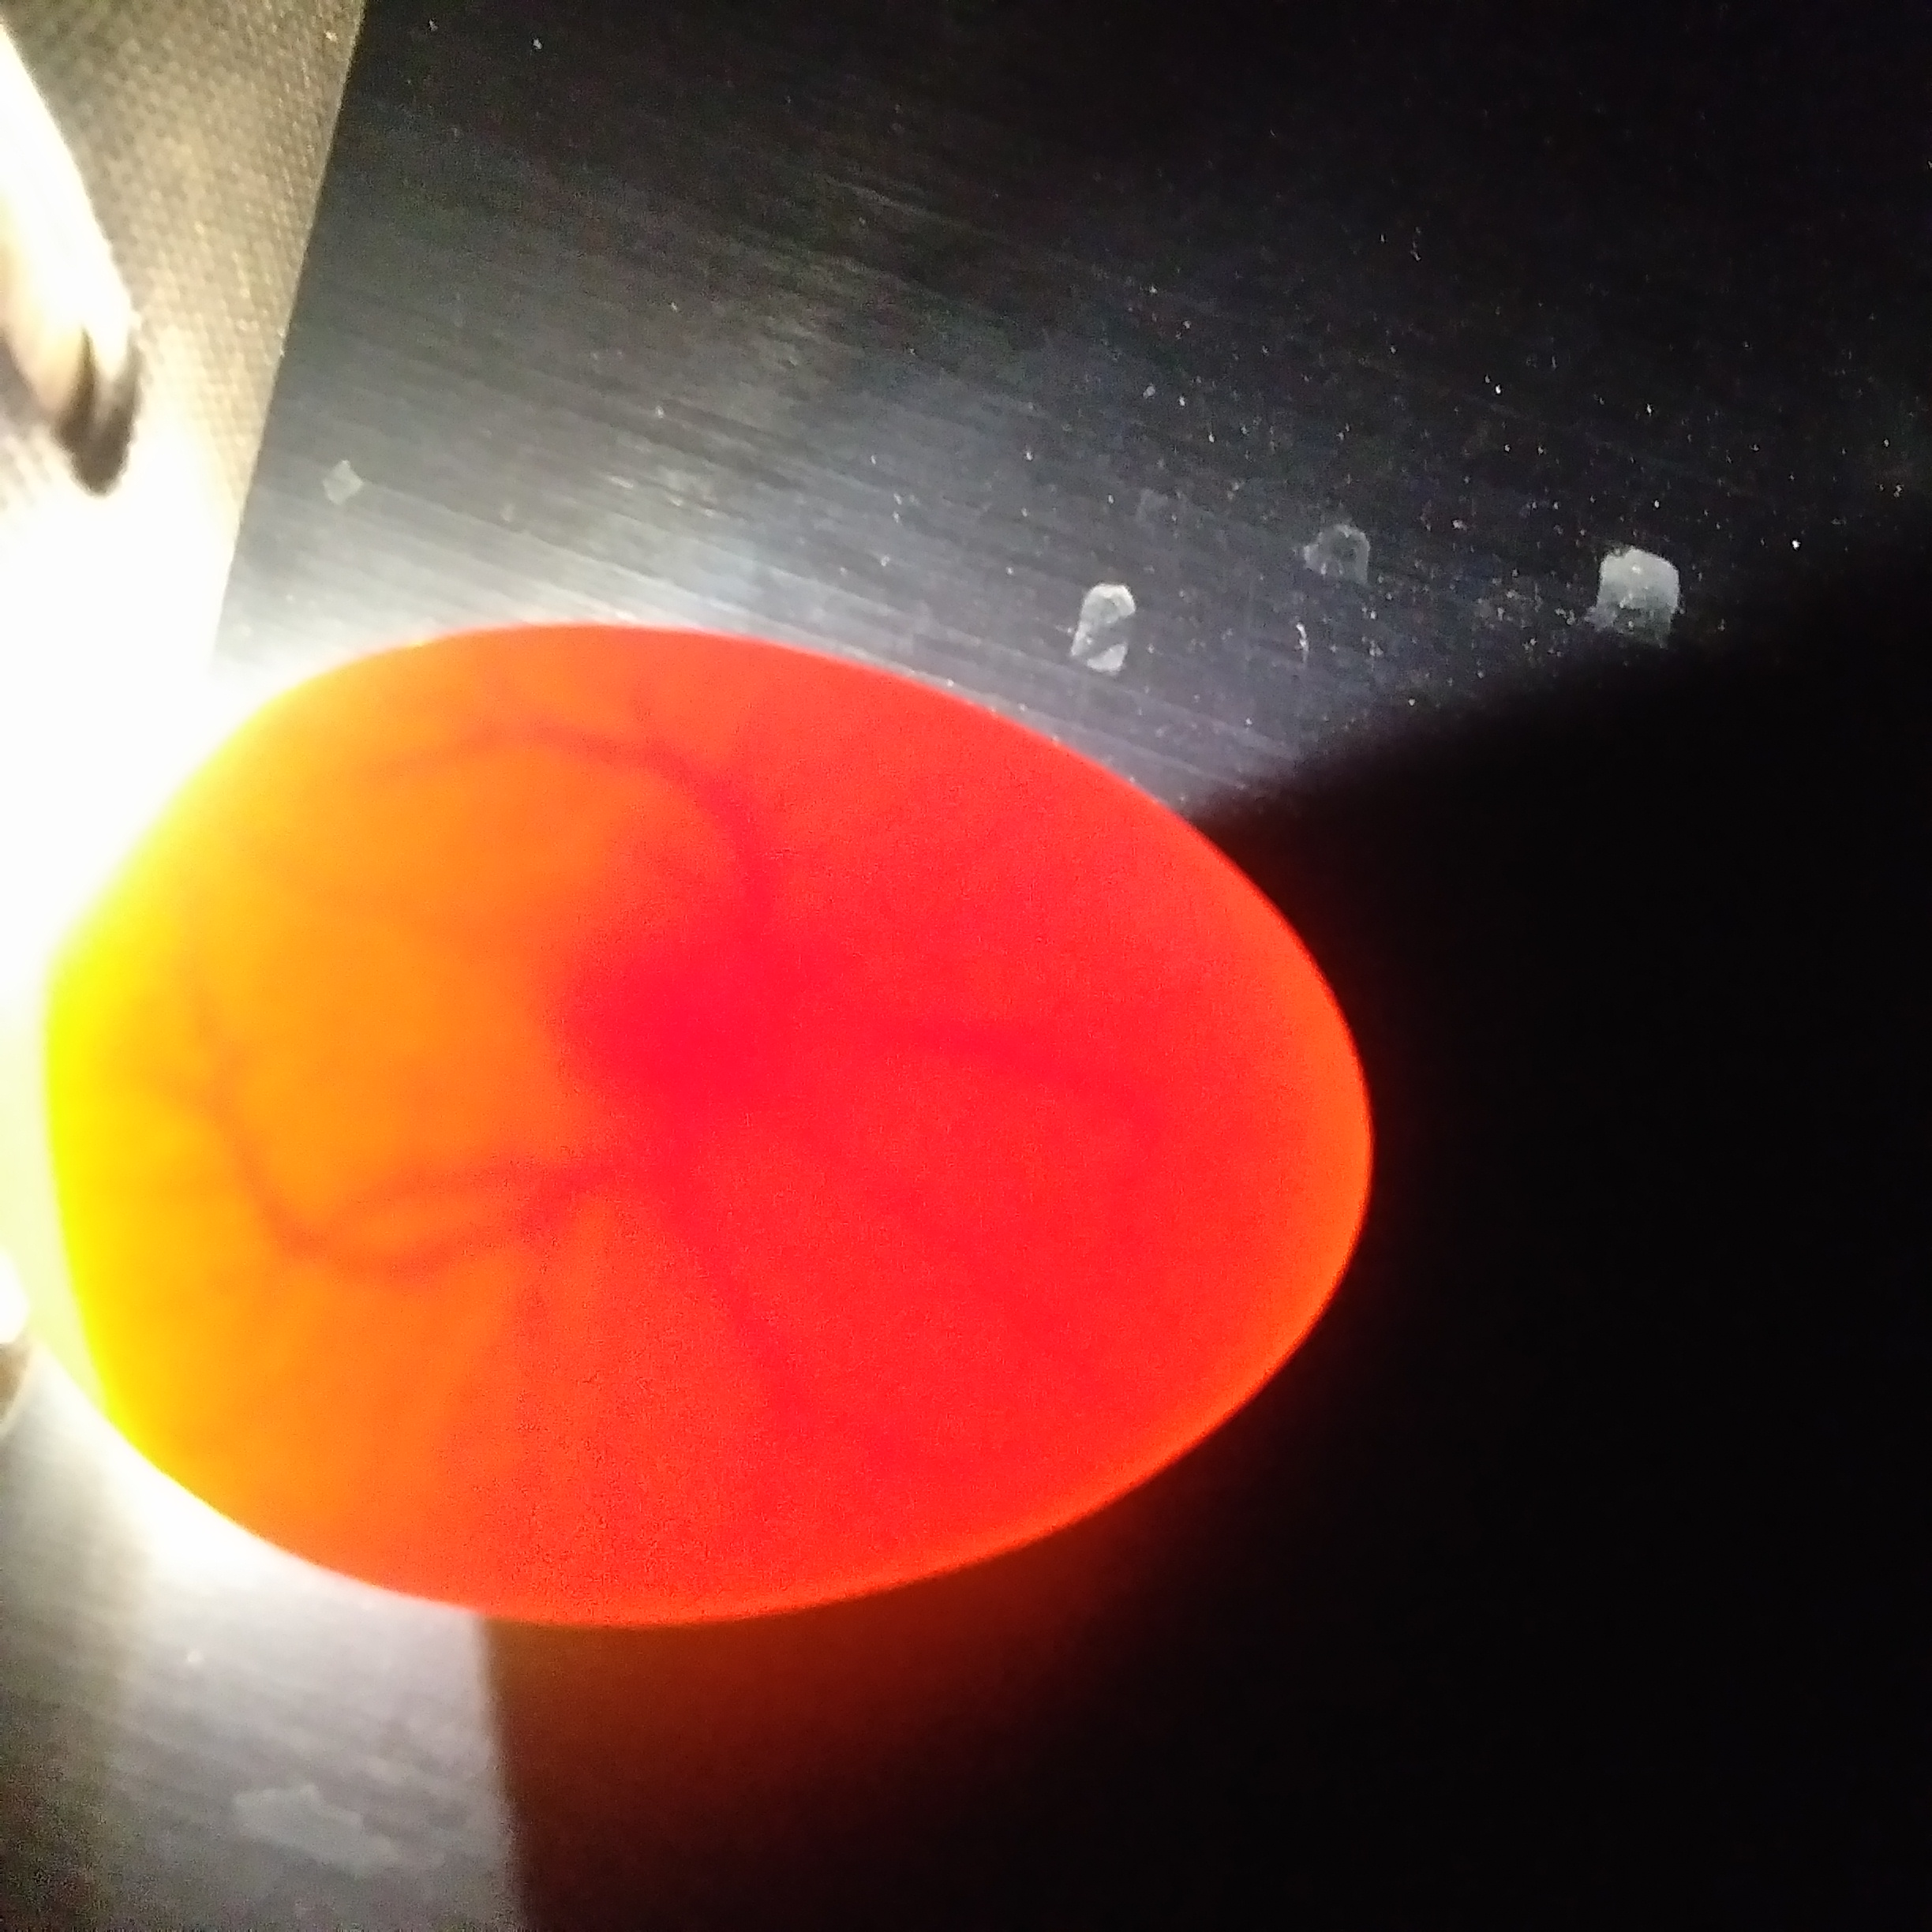bloodcell: (257, 1208, 1012, 1493), (269, 768, 1053, 927)
embryo: (534, 954, 784, 1145)
